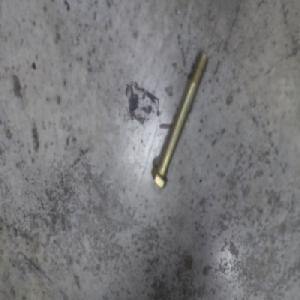Bolt: (156, 52, 213, 187)
